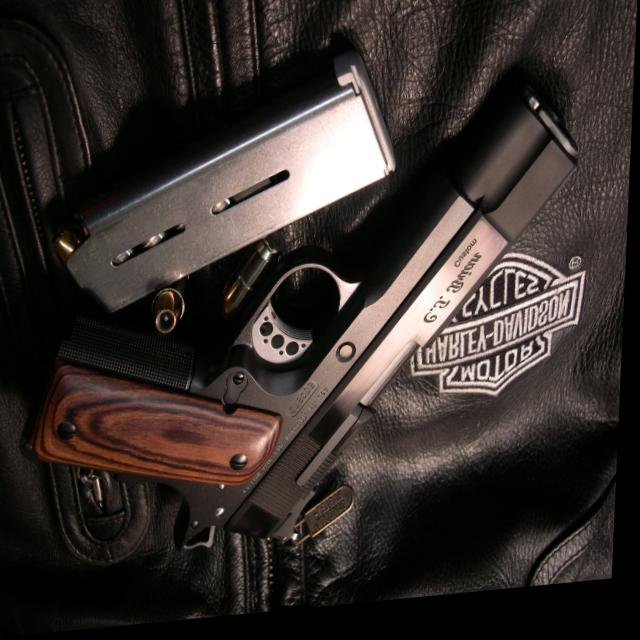handgun: (20, 87, 581, 558)
